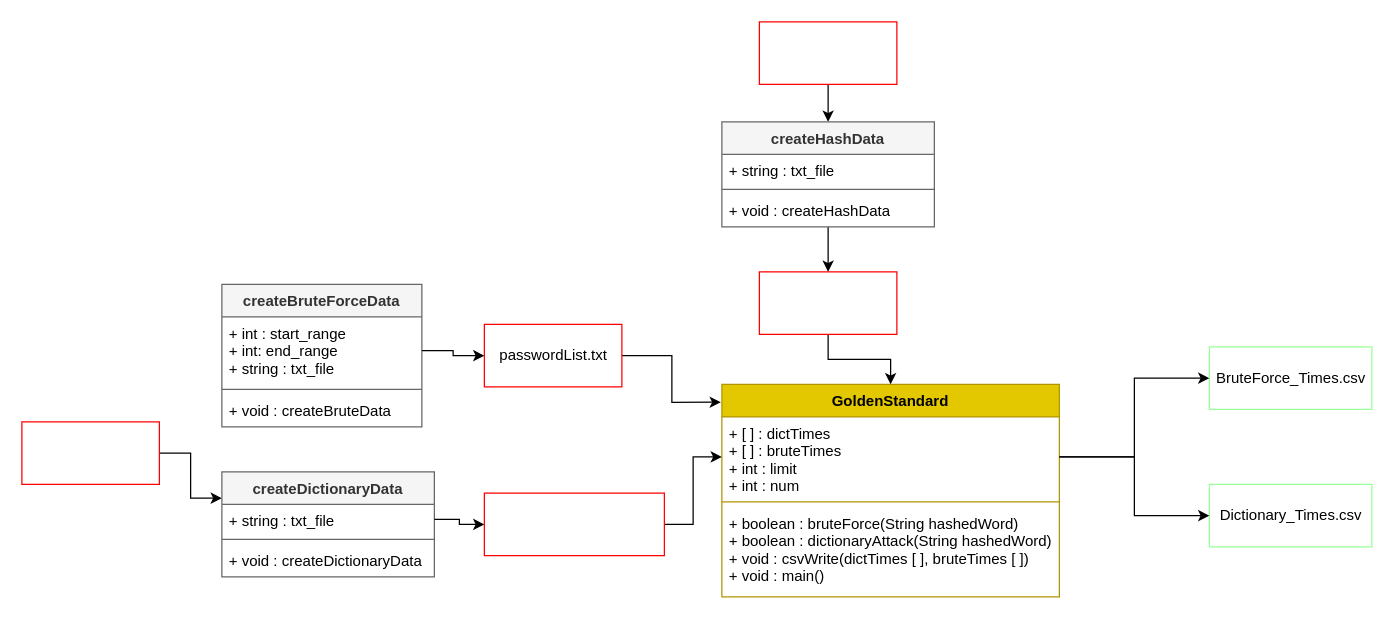
Some shapes in this 1394 by 623 pixel diagram are drawn without their labels. The centre of each missing label's shape, as x and y in pixels:
dictionaryPasswordList.txt: the point at 573,524
hak5.txt: the point at 827,52
hashList.txt: the point at 827,302
rockyou.txt: the point at 90,452
